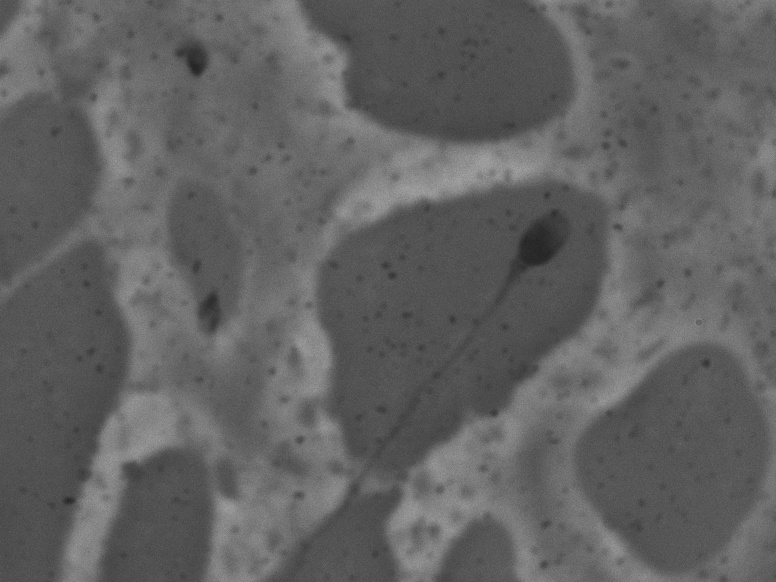Normal: (280, 200, 582, 548)
